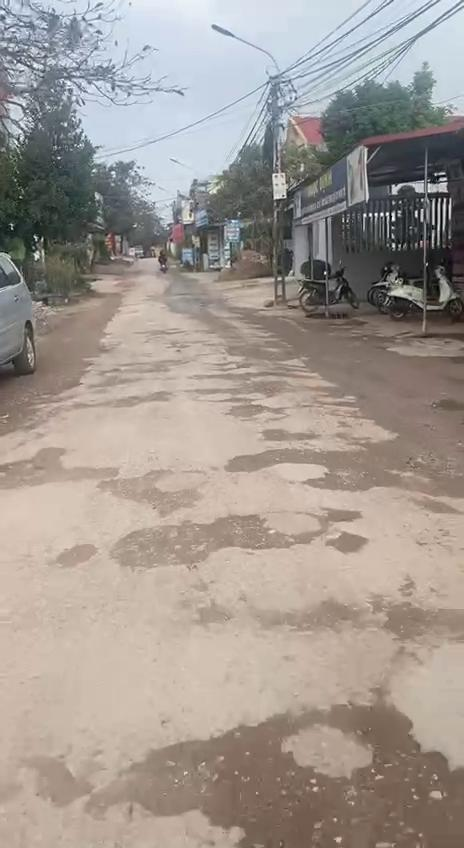pothole: (84, 685, 464, 848), (110, 514, 333, 574), (280, 596, 464, 656), (220, 441, 389, 495), (98, 466, 208, 520), (0, 446, 127, 492), (190, 379, 288, 420), (397, 444, 464, 494), (70, 389, 170, 414), (261, 424, 316, 446), (426, 396, 464, 417)
